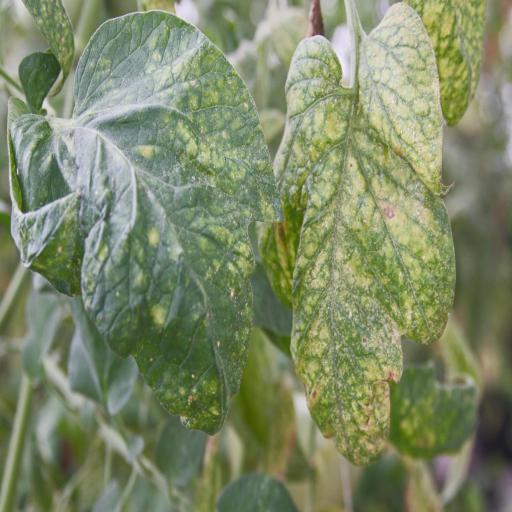Spider Mites: (51, 12, 281, 440), (266, 0, 456, 466)
